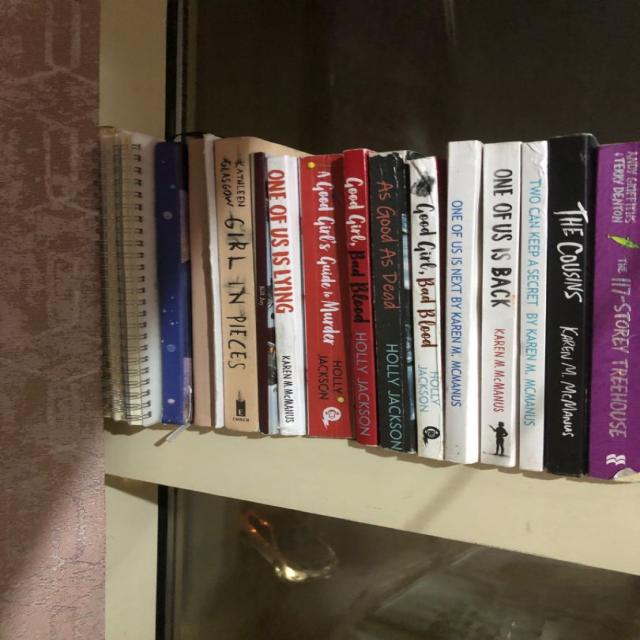book: (589, 141, 640, 483), (299, 153, 353, 437), (546, 133, 585, 477), (480, 141, 521, 468), (370, 151, 412, 453), (216, 137, 257, 433), (265, 155, 302, 436), (343, 148, 378, 445), (445, 140, 477, 464), (410, 156, 443, 460), (519, 141, 547, 472), (154, 143, 185, 423), (253, 152, 272, 434)
